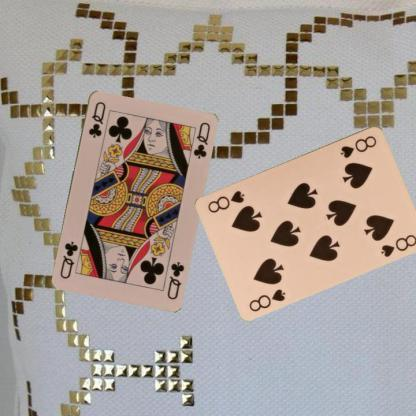8s: (337, 132, 378, 160), (247, 286, 287, 312)
Qc: (164, 258, 186, 300), (86, 98, 107, 138)
